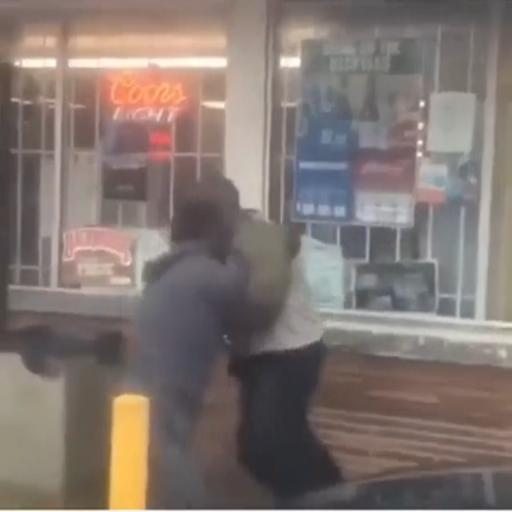violencia: (116, 153, 350, 512)
